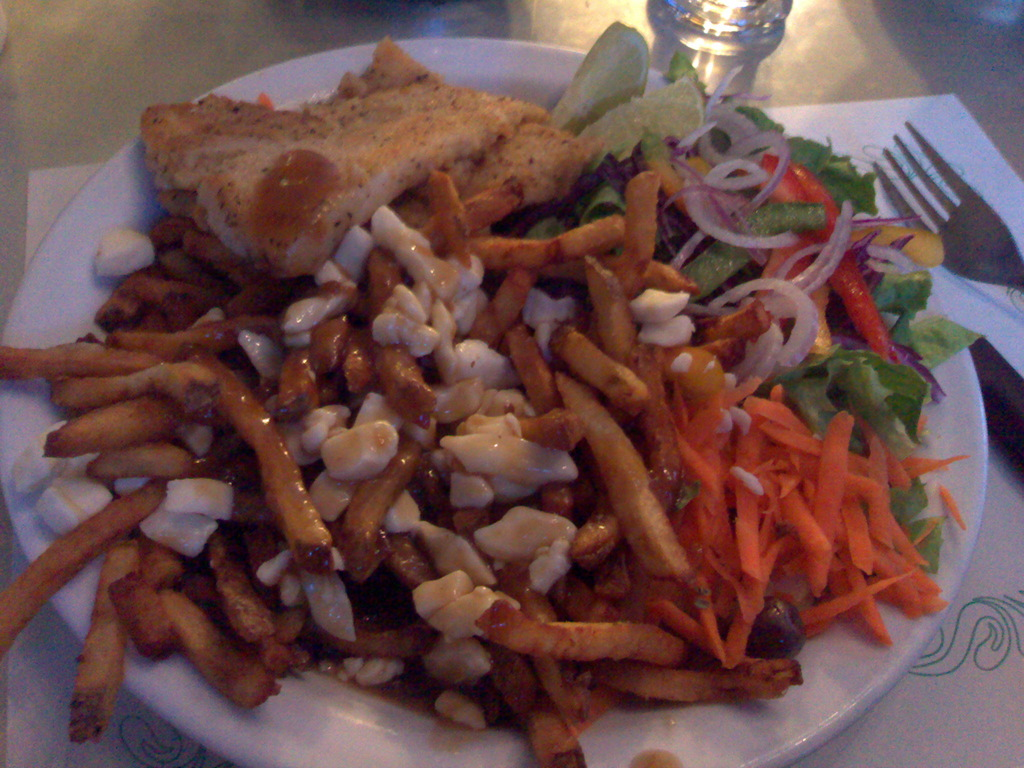French fries: (0, 160, 787, 767)
